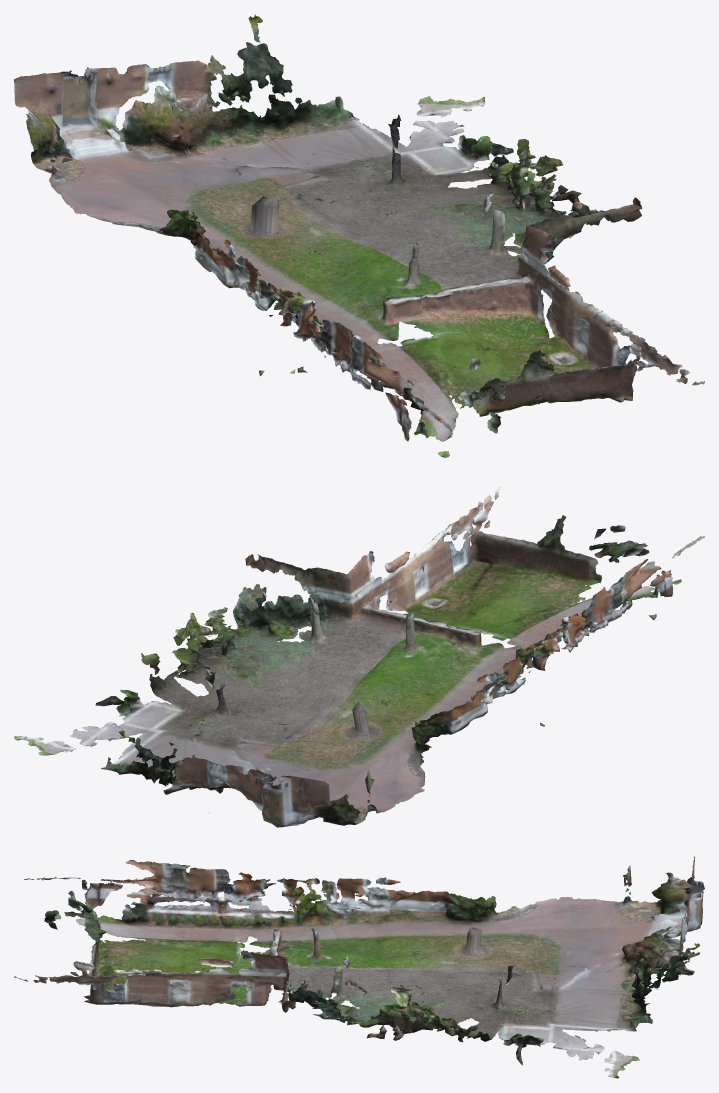
File: carterrain_goodquality.dae
The picture shows the model from 3 angles, top to bottom: view 1: azimuth 30°, elevation 25°; view 2: azimuth 150°, elevation 25°; view 3: azimuth 270°, elevation 25°; orthographic projection. The views are drawn at different scales.
Visible parts, largest first — view 1: mesh1; view 2: mesh1; view 3: mesh1.
Boxes of the visible parts, <box> form: mesh1: <box>14,14,704,457</box>; mesh1: <box>14,486,704,827</box>; mesh1: <box>14,856,704,1078</box>.
Bounding box in the file's own units: 22.45 × 36.95 × 5.38.
1 material, 1 textured.
